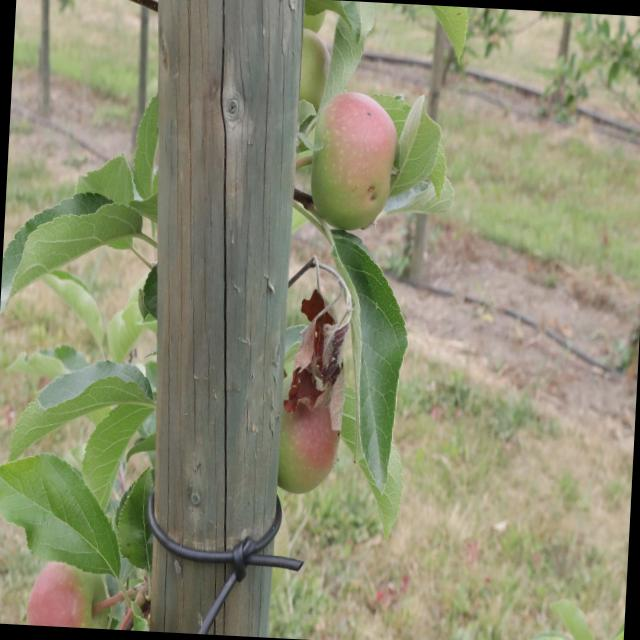-FireBlight-: (296, 260, 354, 450)
